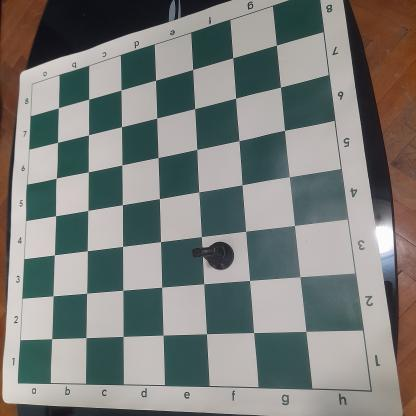black-knight: (191, 240, 237, 270)
